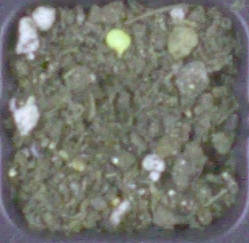chilli seed: (106, 28, 131, 56)
